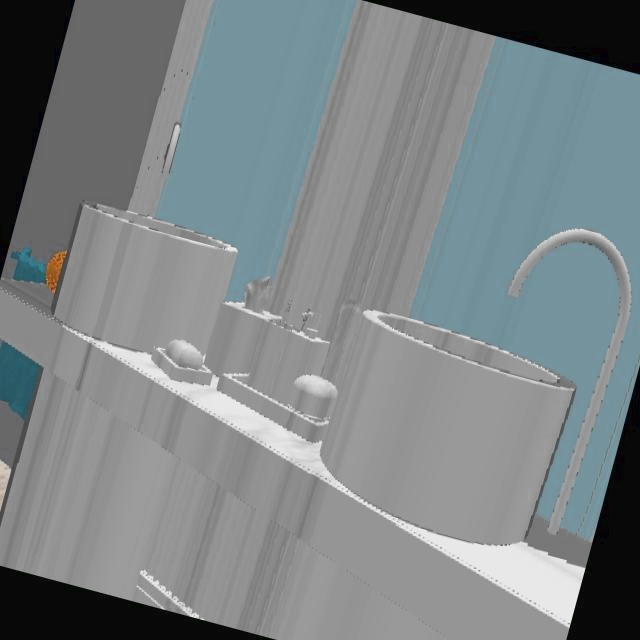washbasin: (318, 312, 574, 548), (51, 122, 238, 354), (505, 229, 632, 540)
